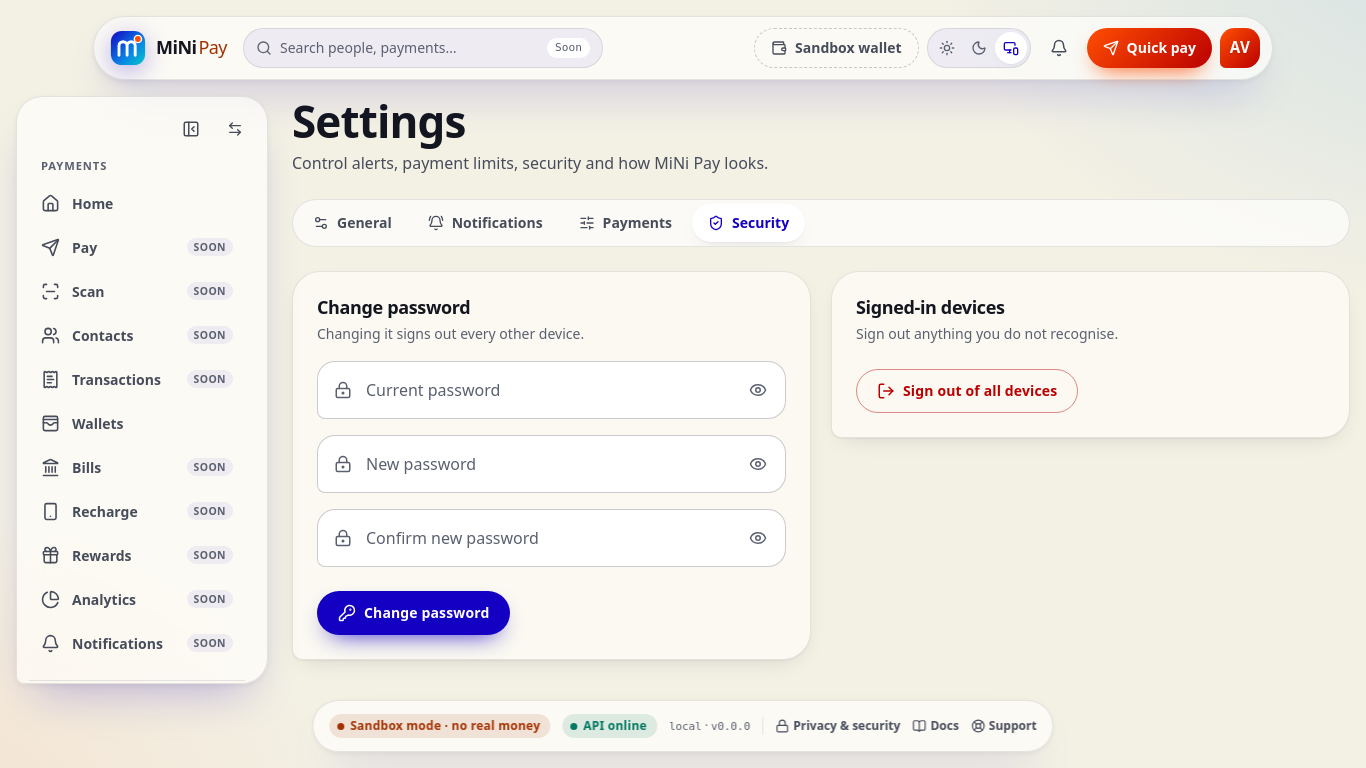
security settings › validates the change-password form
The width and height of the screenshot is (1366, 768).
Type "correct horse battery" into the password field labelled "Current password" at (566, 390), box [364,362,769,418]
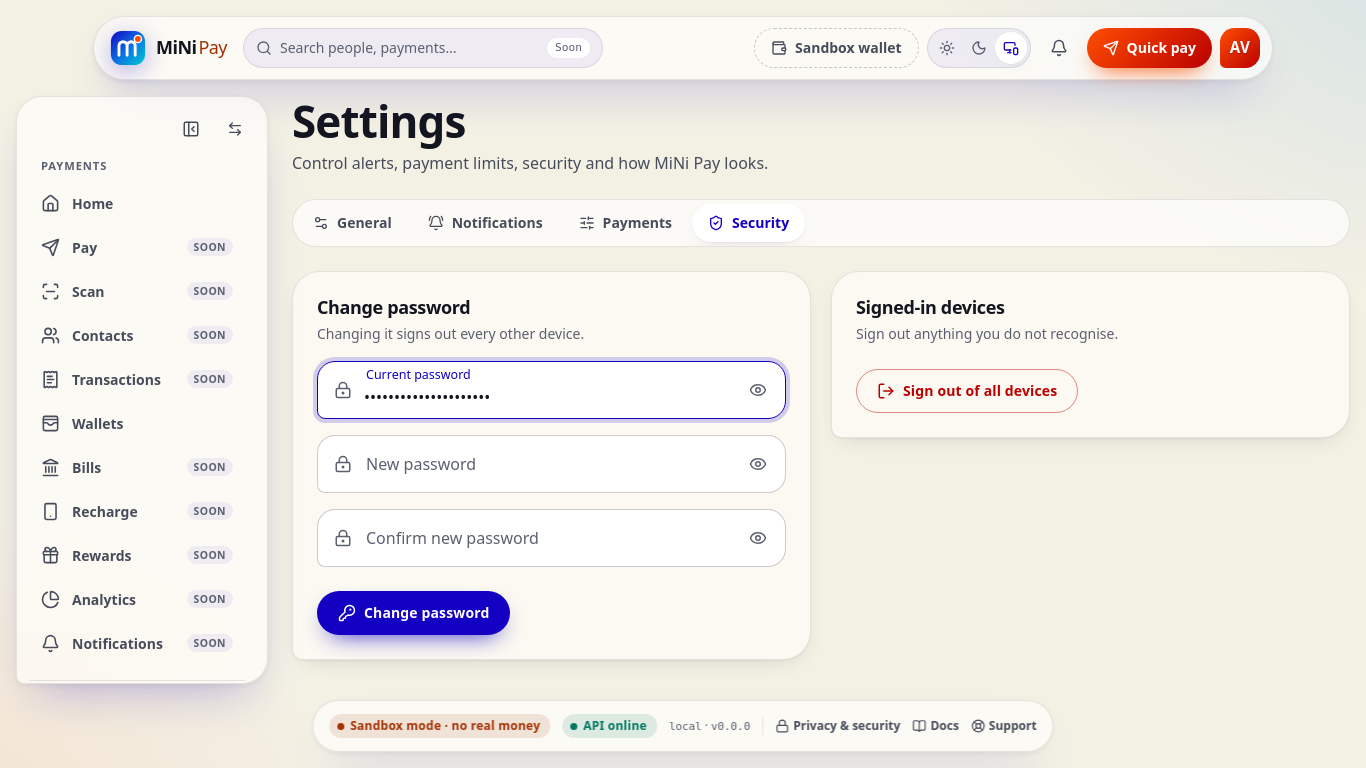
Type "a brand new phrase" into the password field labelled "New password" at (566, 464), box [364,436,769,492]
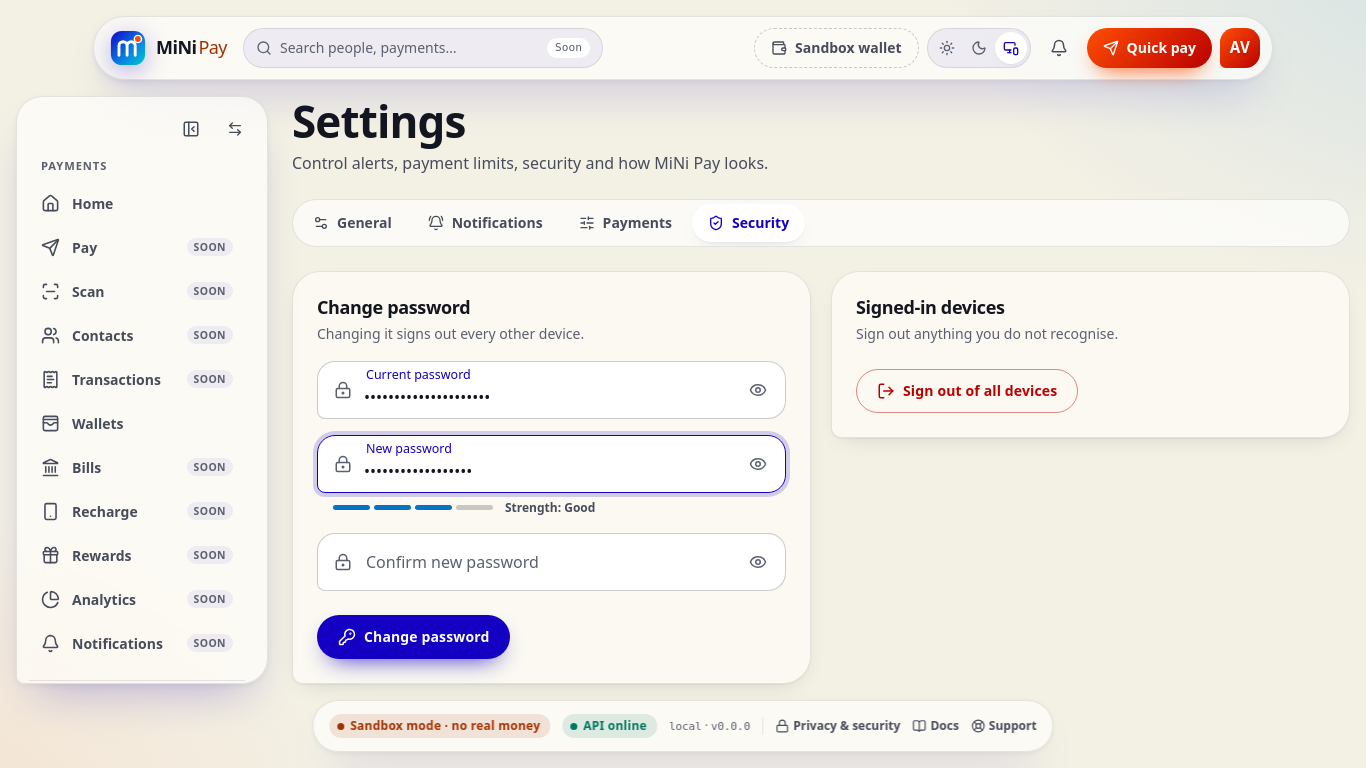
Type "a brand new phrasE" into the password field labelled "Confirm new password" at (566, 562), box [364,534,769,590]
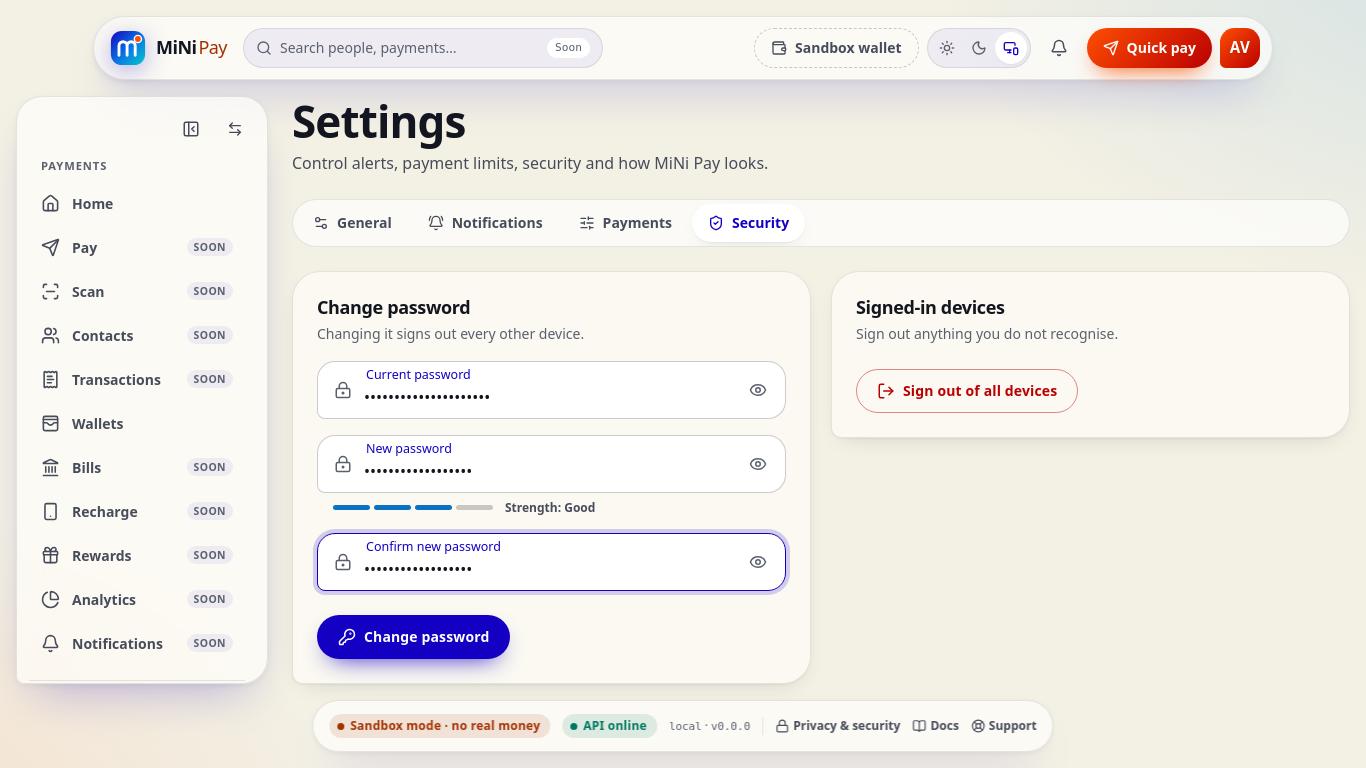
Click the button "Change password" at (414, 637), box [317,615,510,659]
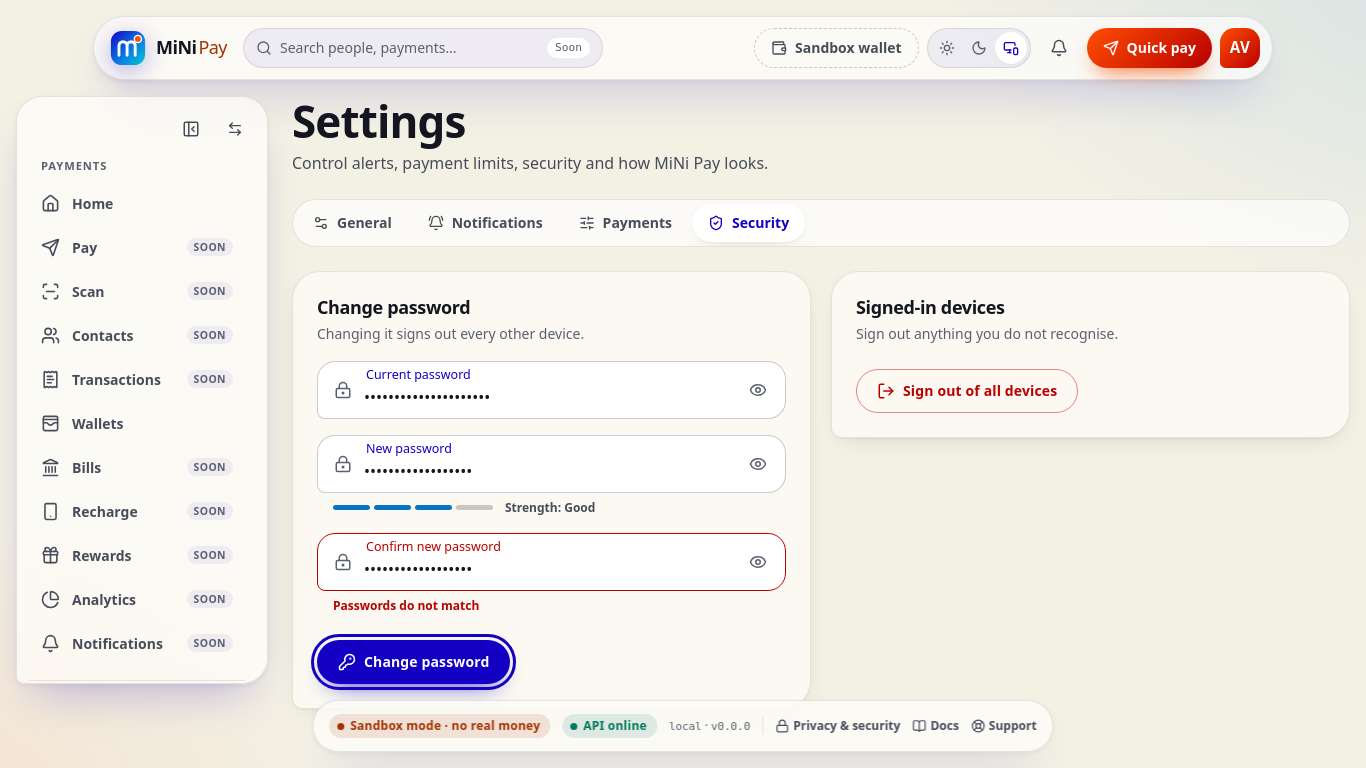
Result: the text "Passwords do not match" is shown at [333,597,479,614]
